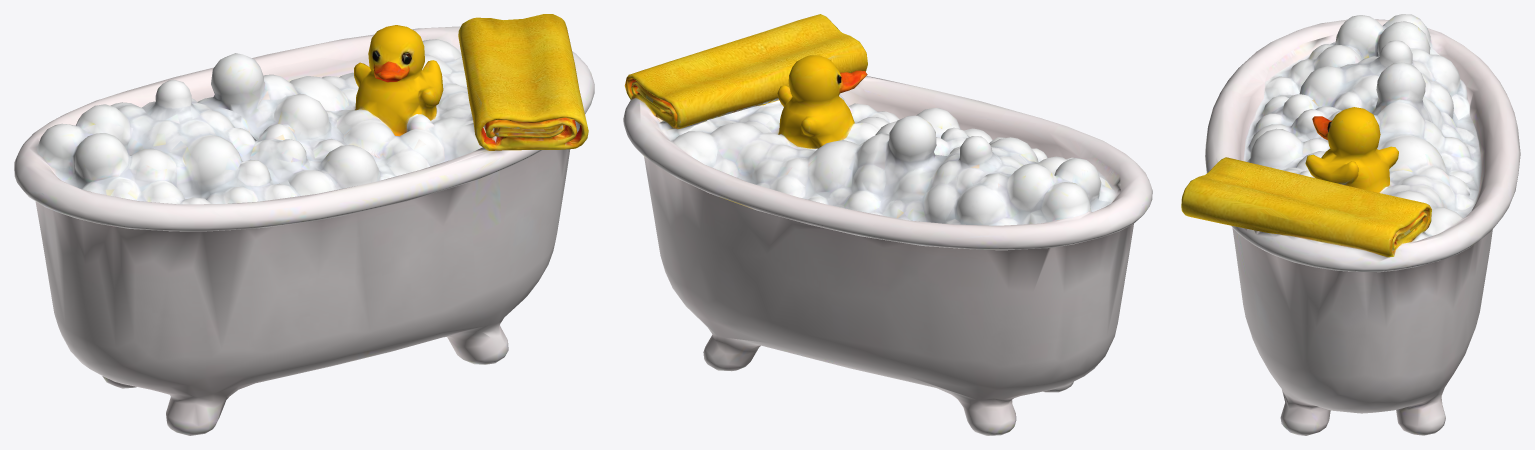
The model's file is bathtub.glb.
3 renders of one model, left to right at view 1: azimuth 30°, elevation 25°; view 2: azimuth 150°, elevation 25°; view 3: azimuth 270°, elevation 25°, orthographic. The views are drawn at different scales.
Parts seen in each view (by area): view 1: bathtub; view 2: bathtub; view 3: bathtub.
Part boxes in pixels (<box>): bathtub: <box>14,14,594,435</box>; bathtub: <box>623,14,1152,435</box>; bathtub: <box>1181,14,1520,435</box>.
Size of the model in its own units: 1.77 by 1 by 1.05.
1 material, 1 textured.
